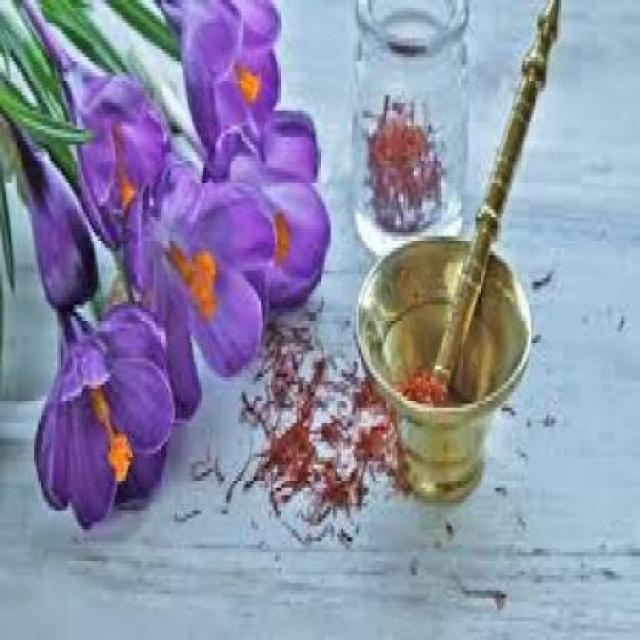Flower: (120, 168, 278, 415), (34, 294, 177, 532), (56, 42, 172, 252), (8, 111, 98, 311)
stigma: (152, 232, 224, 322)
